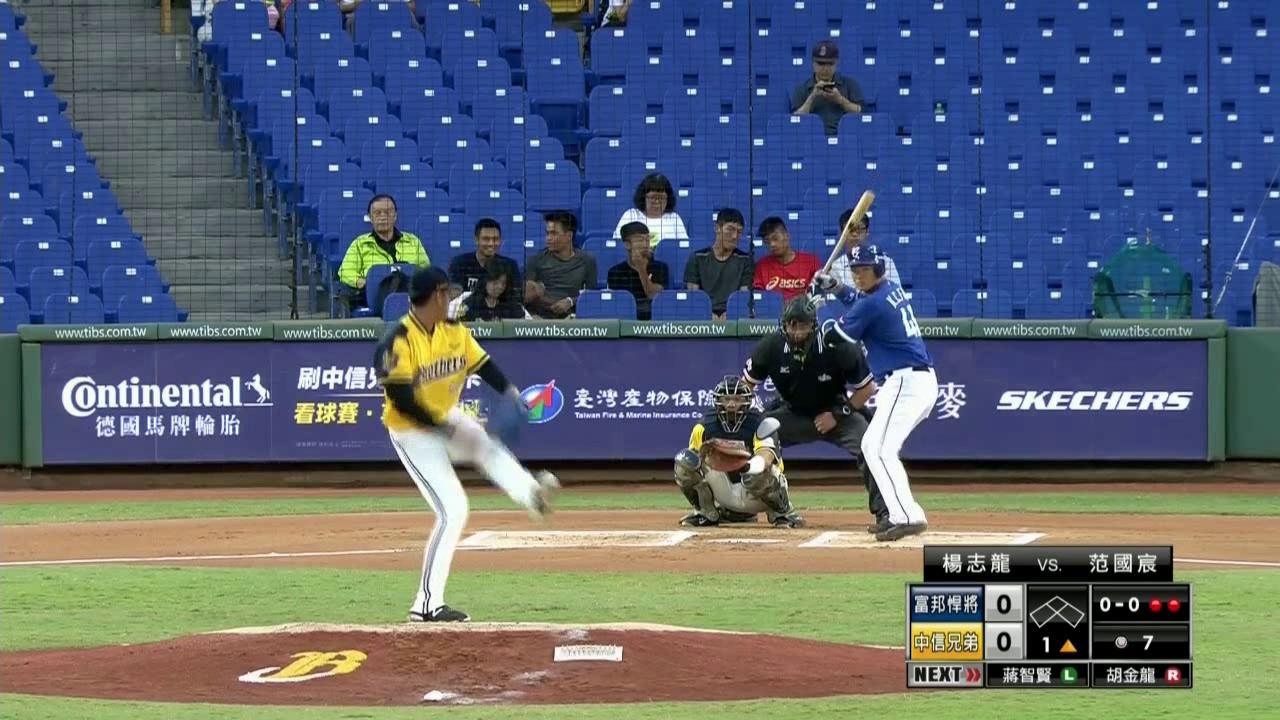base: (1029, 594, 1085, 630)
bat: (822, 188, 879, 274)
out: (1147, 596, 1181, 612)
score1: (984, 584, 1021, 621)
score2: (986, 623, 1022, 658)
session: (1035, 634, 1083, 656)
strikeball: (1095, 593, 1142, 614)
total: (1108, 628, 1163, 652)
